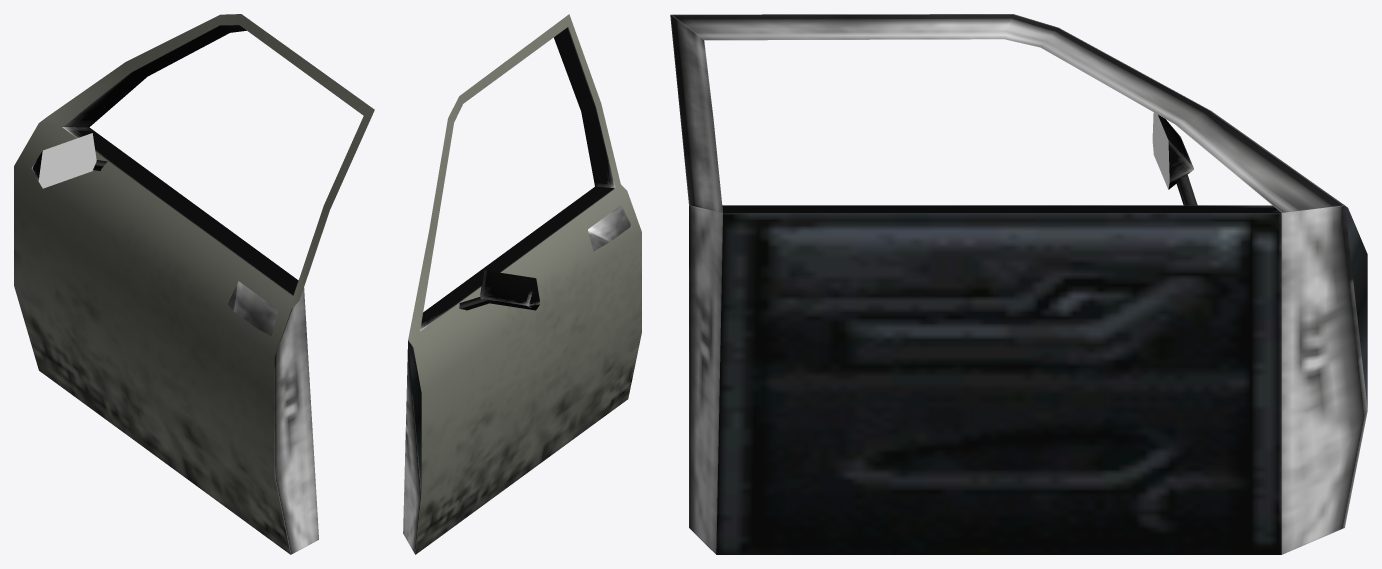
Rendered from door_fl.fbx.
3 renders of one model, left to right at view 1: azimuth 30°, elevation 25°; view 2: azimuth 150°, elevation 25°; view 3: azimuth 270°, elevation 25°, orthographic. The views are drawn at different scales.
Visible parts, largest first — view 1: node_875509bf_cda0_490c_b4a1_833c4cf8e91d_mesh0, node_88df79a7_dbc7_45dc_adbd_3781d275ad36_mesh0, node_5c3ff4dc_41d9_4415_8c36_b1970ef9f699_mesh0, node_6621214e_fe01_48ed_a1cd_c65ca4a55678_mesh0, node_c3530fcb_5065_4bb8_b09a_7c6c96265355_mesh0; view 2: node_875509bf_cda0_490c_b4a1_833c4cf8e91d_mesh0, node_5c3ff4dc_41d9_4415_8c36_b1970ef9f699_mesh0, node_c3530fcb_5065_4bb8_b09a_7c6c96265355_mesh0, node_88df79a7_dbc7_45dc_adbd_3781d275ad36_mesh0, node_38949186_1bc5_419a_97b3_d7706810065d_mesh0; view 3: node_38949186_1bc5_419a_97b3_d7706810065d_mesh0, node_88df79a7_dbc7_45dc_adbd_3781d275ad36_mesh0, node_5c3ff4dc_41d9_4415_8c36_b1970ef9f699_mesh0, node_c3530fcb_5065_4bb8_b09a_7c6c96265355_mesh0, node_6621214e_fe01_48ed_a1cd_c65ca4a55678_mesh0.
Boxes of the visible parts, left/top/right/bottom form: node_875509bf_cda0_490c_b4a1_833c4cf8e91d_mesh0: left=14, top=14, right=374, bottom=554; node_88df79a7_dbc7_45dc_adbd_3781d275ad36_mesh0: left=274, top=288, right=318, bottom=554; node_5c3ff4dc_41d9_4415_8c36_b1970ef9f699_mesh0: left=62, top=25, right=298, bottom=295; node_6621214e_fe01_48ed_a1cd_c65ca4a55678_mesh0: left=38, top=133, right=96, bottom=188; node_c3530fcb_5065_4bb8_b09a_7c6c96265355_mesh0: left=31, top=151, right=278, bottom=336; node_875509bf_cda0_490c_b4a1_833c4cf8e91d_mesh0: left=408, top=14, right=641, bottom=554; node_5c3ff4dc_41d9_4415_8c36_b1970ef9f699_mesh0: left=420, top=27, right=615, bottom=331; node_c3530fcb_5065_4bb8_b09a_7c6c96265355_mesh0: left=480, top=205, right=630, bottom=310; node_88df79a7_dbc7_45dc_adbd_3781d275ad36_mesh0: left=403, top=341, right=421, bottom=554; node_38949186_1bc5_419a_97b3_d7706810065d_mesh0: left=408, top=340, right=421, bottom=492; node_38949186_1bc5_419a_97b3_d7706810065d_mesh0: left=716, top=205, right=1367, bottom=554; node_88df79a7_dbc7_45dc_adbd_3781d275ad36_mesh0: left=670, top=14, right=1367, bottom=554; node_5c3ff4dc_41d9_4415_8c36_b1970ef9f699_mesh0: left=722, top=175, right=1280, bottom=212; node_c3530fcb_5065_4bb8_b09a_7c6c96265355_mesh0: left=1158, top=115, right=1193, bottom=189; node_6621214e_fe01_48ed_a1cd_c65ca4a55678_mesh0: left=1152, top=112, right=1169, bottom=189.
Bounding box in the file's own units: 45.31 × 119 × 133.
